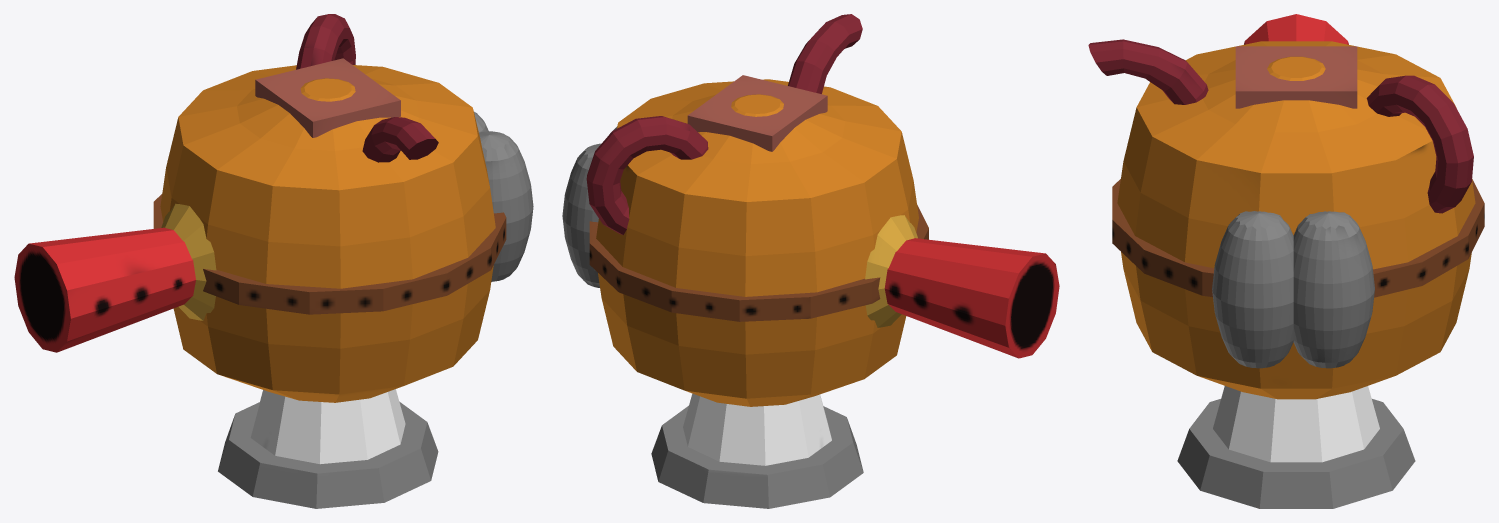
Rendered from Flamethrower.fbx.
3 renders of one model, left to right at view 1: azimuth 30°, elevation 25°; view 2: azimuth 150°, elevation 25°; view 3: azimuth 270°, elevation 25°, orthographic. The views are drawn at different scales.
Parts seen in each view (by area): view 1: Cone.003; view 2: Cone.003; view 3: Cone.003.
Part boxes in pixels (x1,y1,x2,y2): Cone.003: [14, 14, 533, 508]; Cone.003: [562, 14, 1059, 508]; Cone.003: [1088, 14, 1484, 508].
Size of the model in its own units: 239 by 195 by 166.
1 material, 1 textured.
